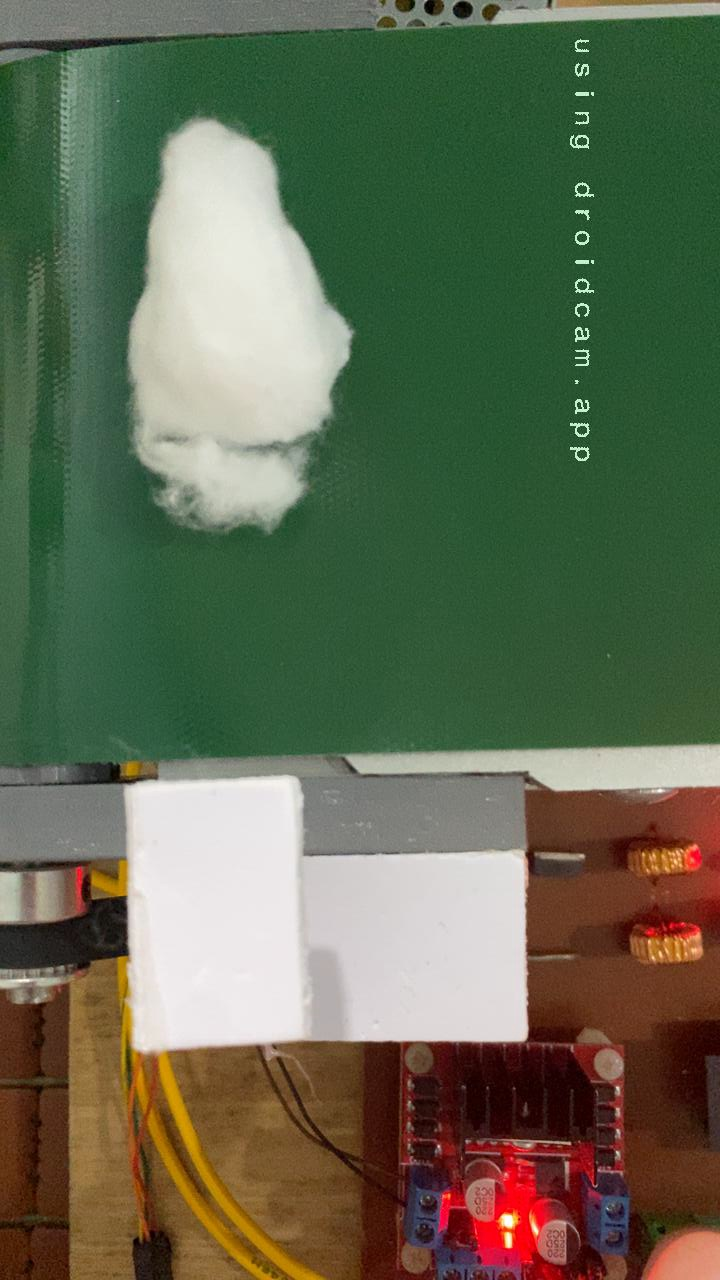cotton: (121, 112, 361, 536)
